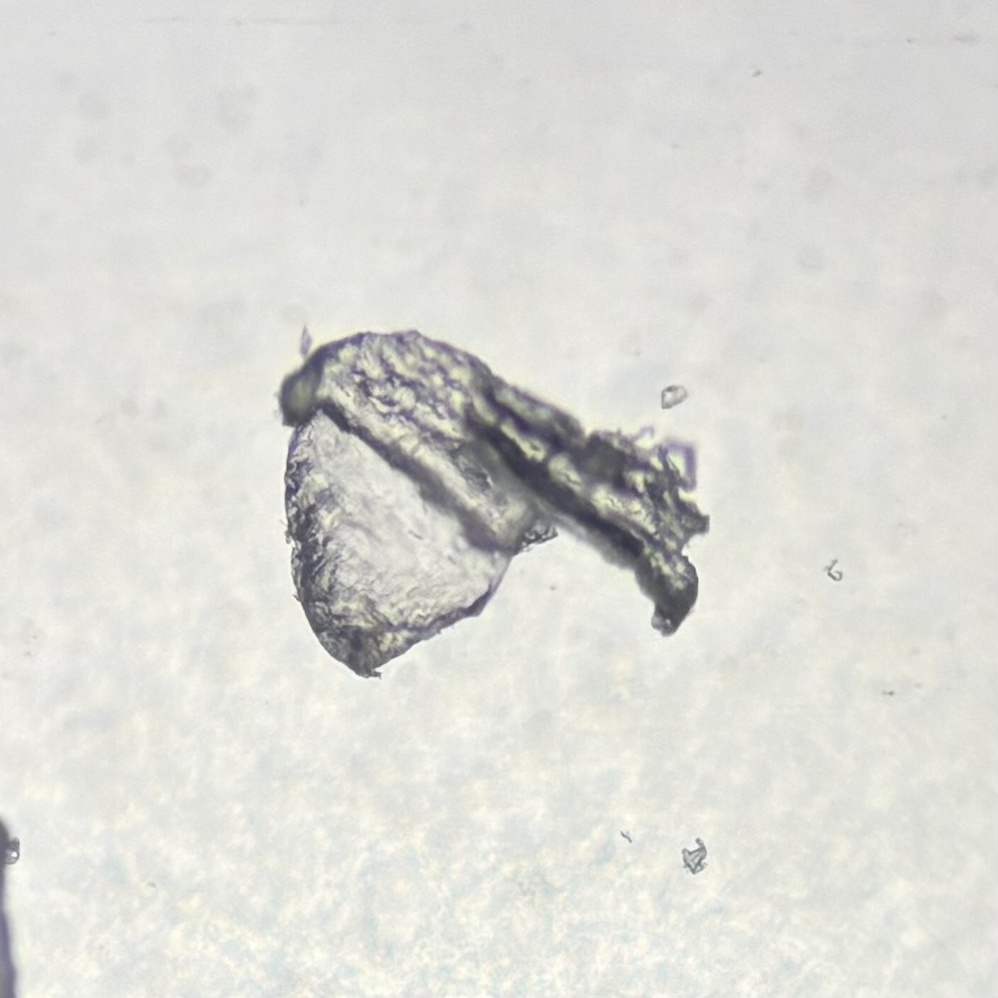microplastic: (274, 321, 713, 680), (1, 818, 20, 998), (683, 836, 707, 875), (659, 384, 686, 410)
